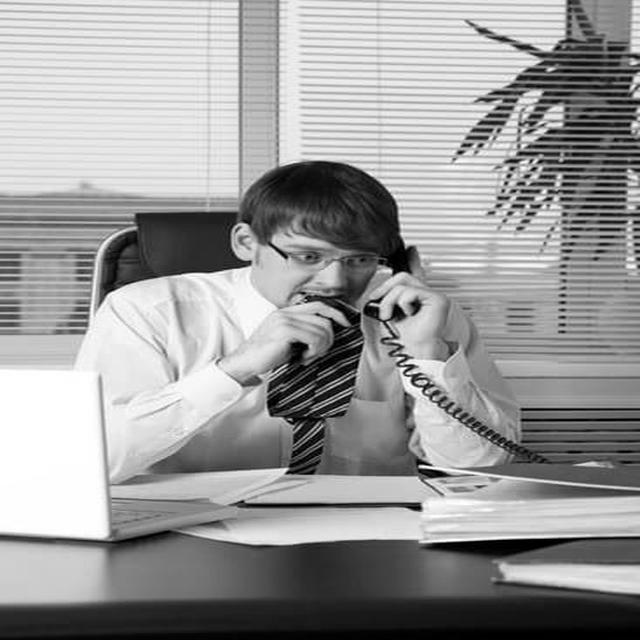Fear: (271, 226, 380, 310)
